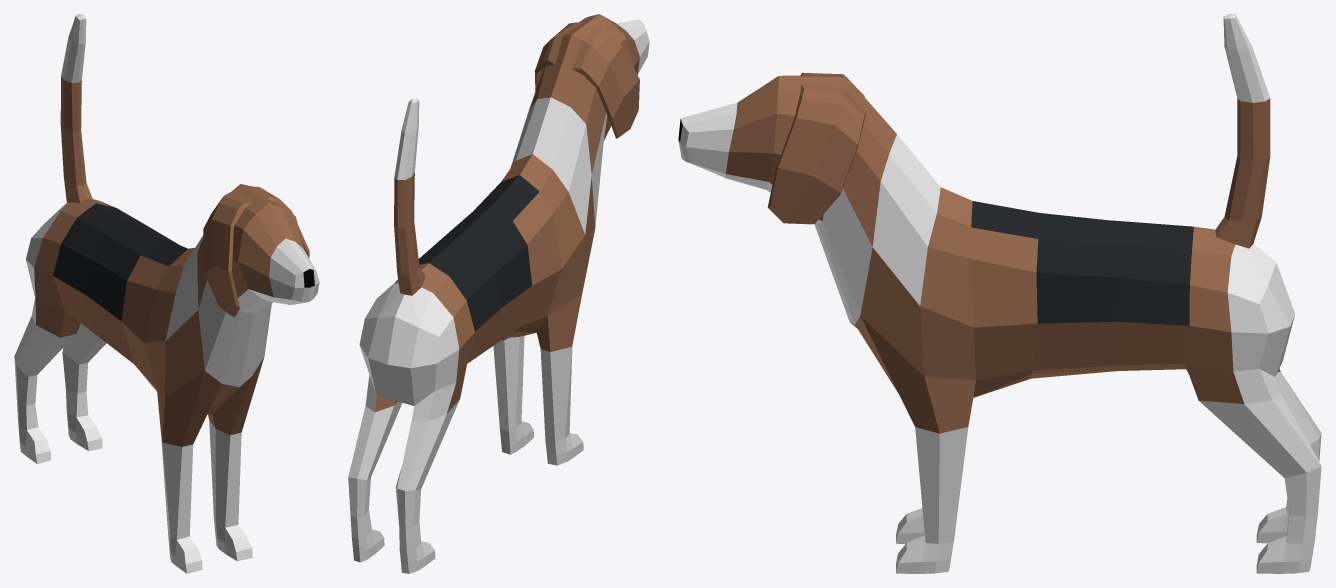
The model's file is 20dogFinal.fbx.
3 renders of one model, left to right at view 1: azimuth 30°, elevation 25°; view 2: azimuth 150°, elevation 25°; view 3: azimuth 270°, elevation 25°, orthographic. The views are drawn at different scales.
Parts seen in each view (by area): view 1: 20dogFinal; view 2: 20dogFinal; view 3: 20dogFinal.
Boxes of the visible parts, <box> form: 20dogFinal: <box>14,14,319,573</box>; 20dogFinal: <box>348,14,649,573</box>; 20dogFinal: <box>678,14,1321,573</box>.
Size of the model in its own units: 23.65 by 110 by 118.
